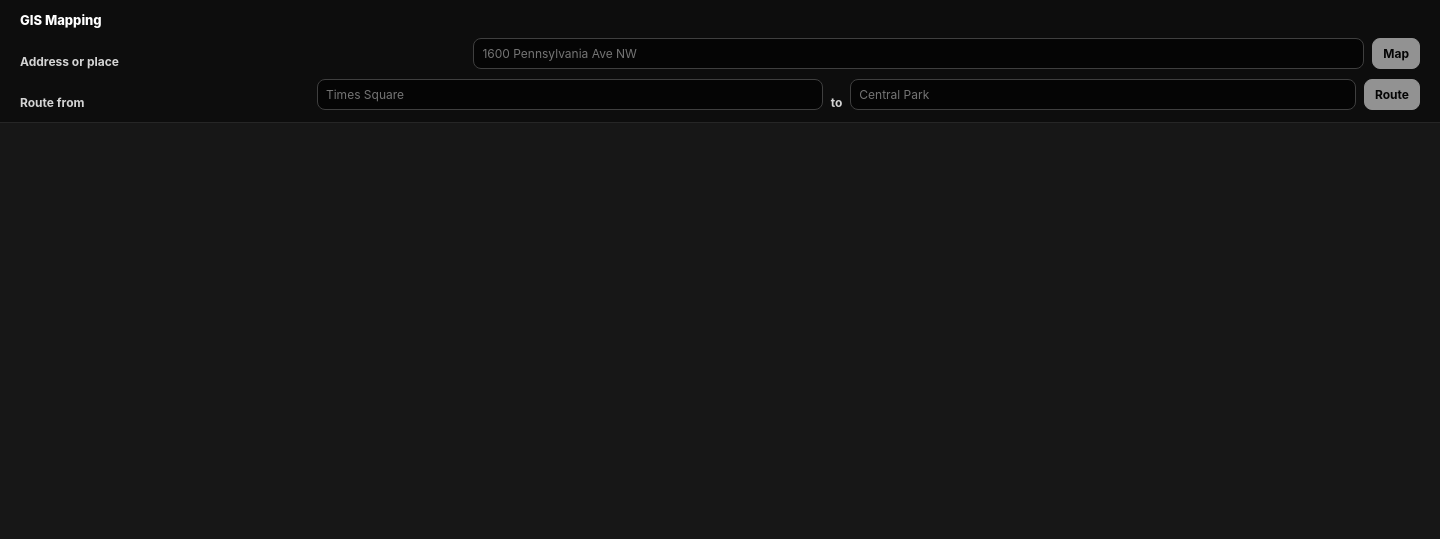
GISMapPanel › clears stale map output after a route error
Type "White House" into the field labelled "Address or place".
click(919, 54); type("White House")  # box [473,38,1364,69]
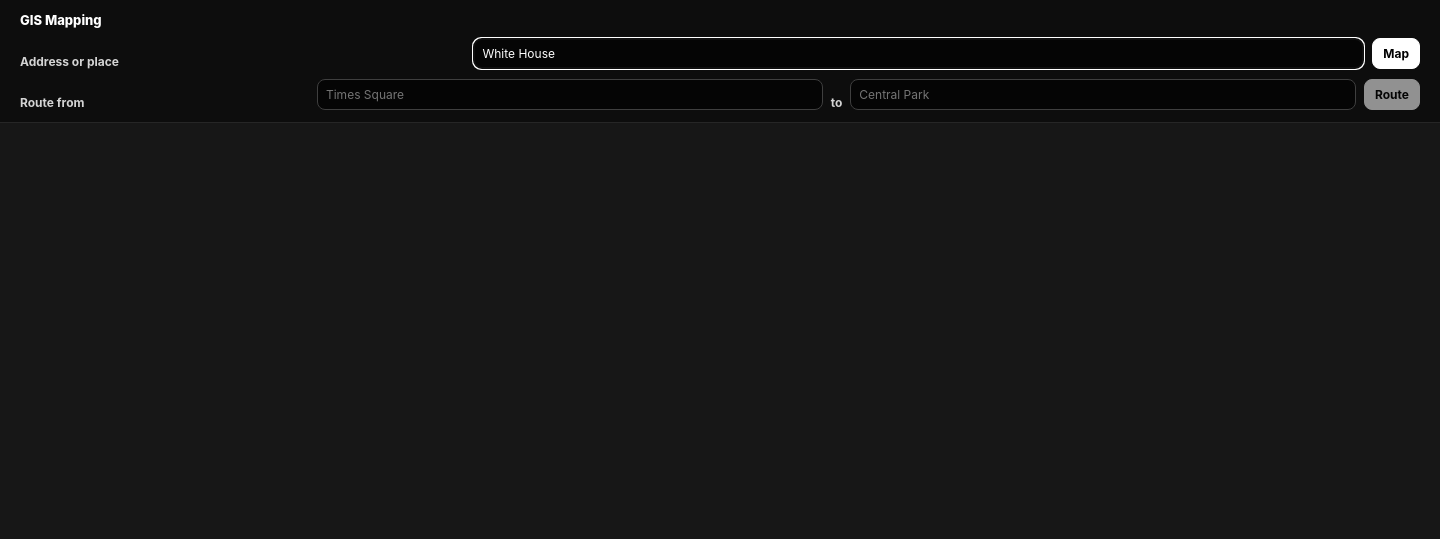
Click the button "Map".
click(1396, 54)  # box [1372,38,1420,69]
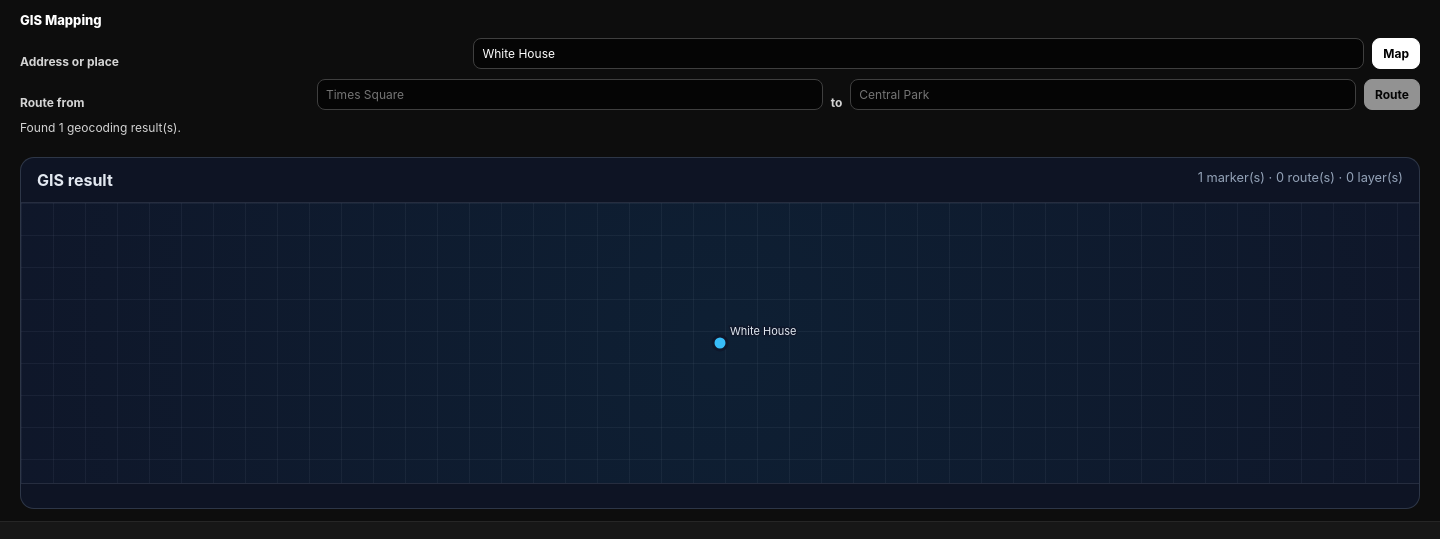
Check: the element labelled "GIS result 1 marker(s) · 0 route(s) · 0 layer(s) White House" is shown
Type "Unknown" into the field labelled "Route from".
click(570, 94); type("Unknown")  # box [317,79,823,110]
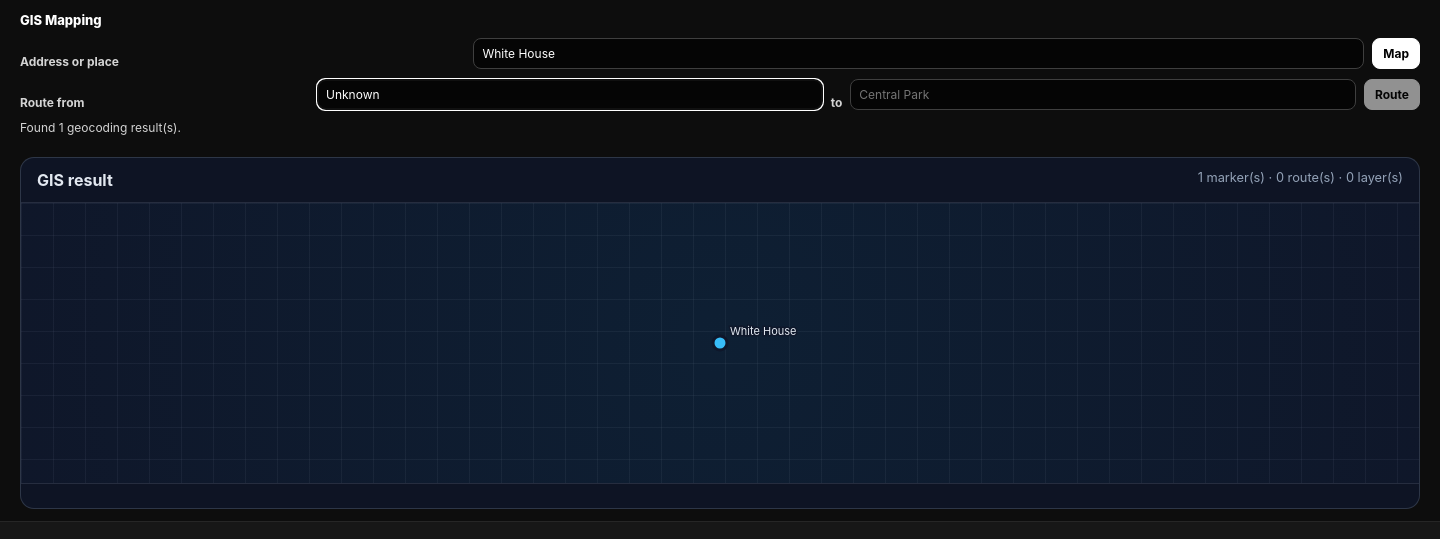
Type "Nowhere" into the field labelled "to".
click(1103, 94); type("Nowhere")  # box [850,79,1356,110]
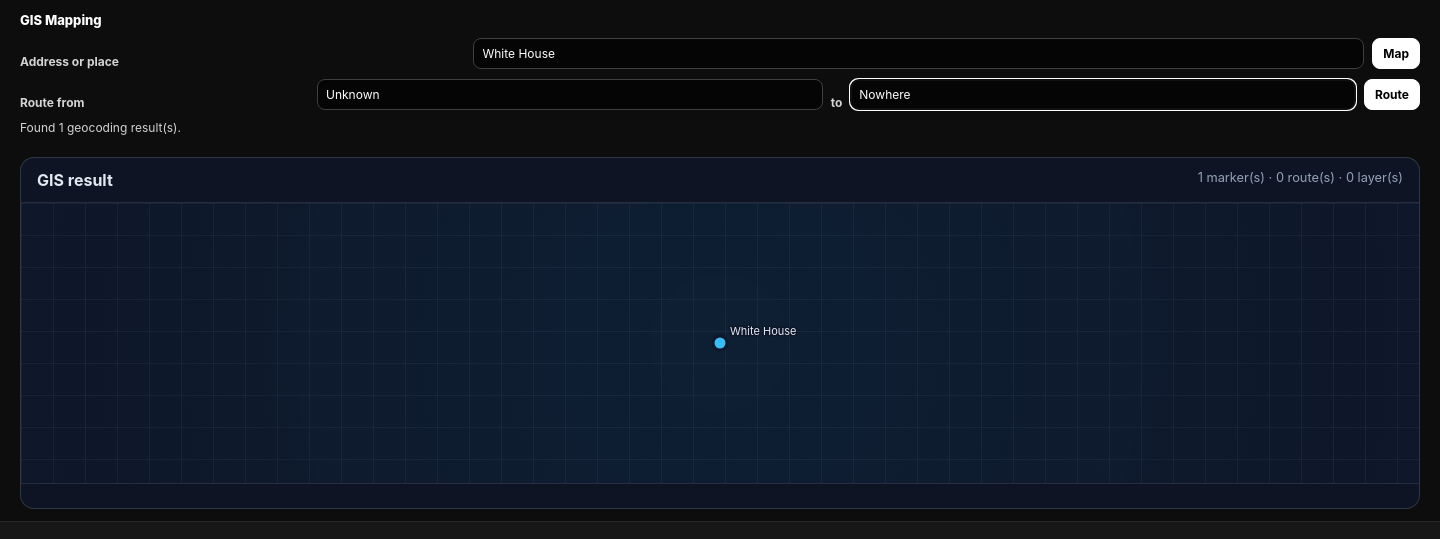
Click the button "Route".
click(1392, 94)  # box [1364,79,1420,110]
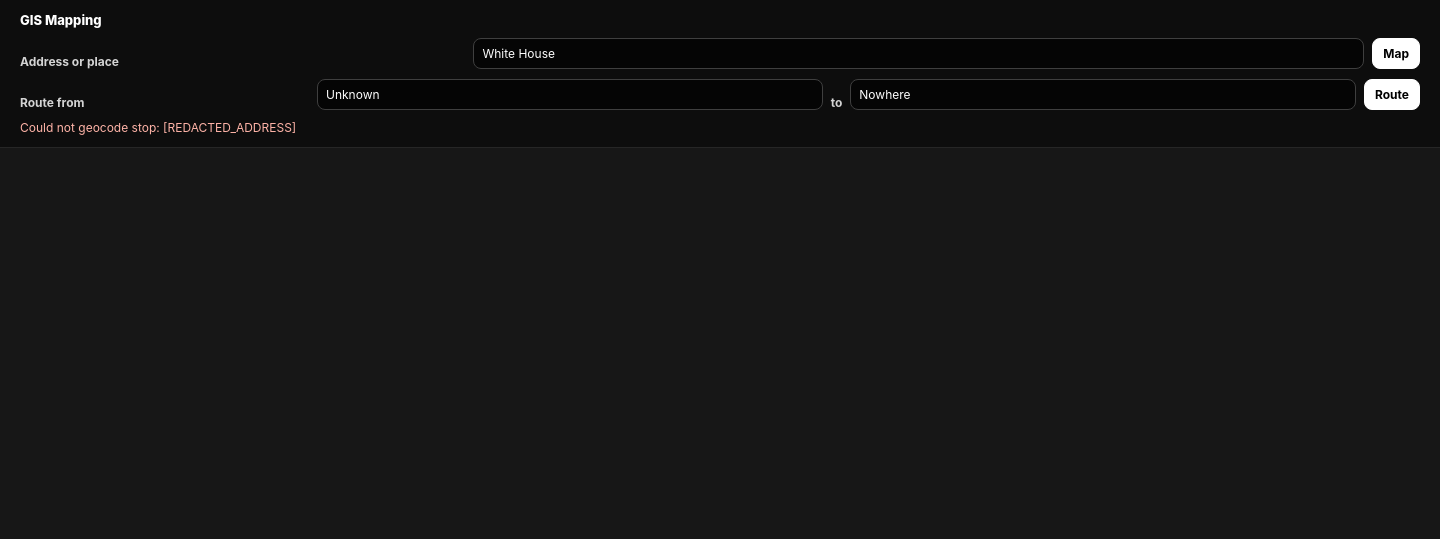
Check: the message shows "Could not geocode stop", box [20,120,296,135]
Check: the text labelled "GIS result" is gone
Check: the text "Found 1 geocoding result" is gone
